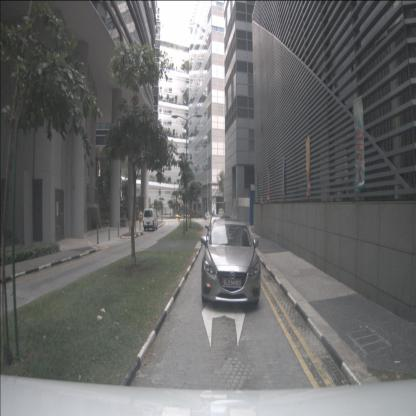human-pedestrian-adult: (211, 211, 214, 223)
vehicle-car: (201, 219, 261, 305), (206, 215, 236, 270), (143, 208, 158, 231)
